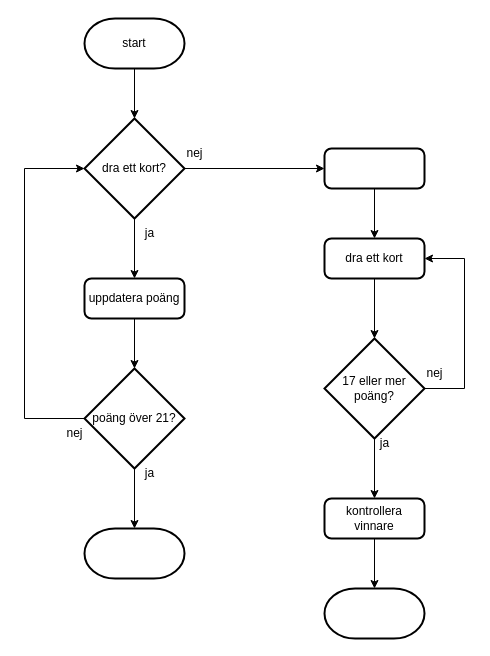
The diagram is 490 pixels wide and 656 high, and some of its shapes have lost their labels. Each missing label, with the centre of its shape:
banken vinner: [134,553]
bankens tur: [374,168]
slut: [374,613]
